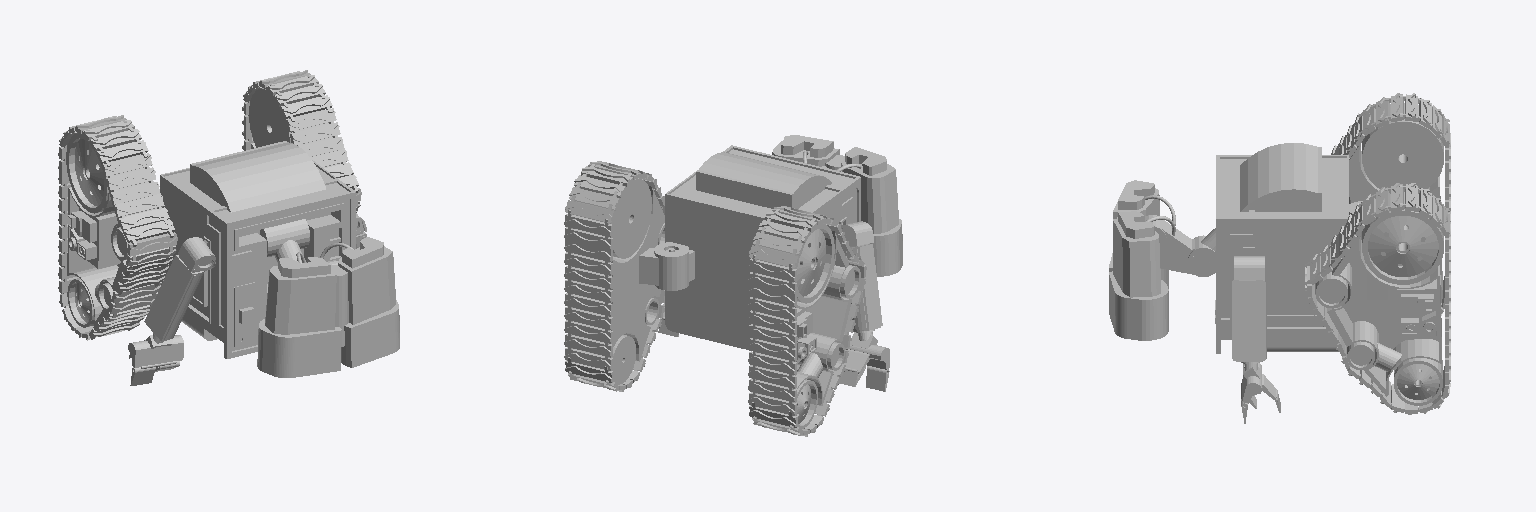
File: walle.obj
3 views of the same model, side by side, from view 1: azimuth 30°, elevation 25°; view 2: azimuth 150°, elevation 25°; view 3: azimuth 270°, elevation 25° (orthographic).
Visible parts, largest first — view 1: Object.1; view 2: Object.1; view 3: Object.1.
Boxes of the visible parts, box(x1,y1,x2,y2) form: Object.1: box(58, 70, 399, 385); Object.1: box(564, 135, 902, 436); Object.1: box(1109, 93, 1450, 423).
Bounding box in the file's own units: 67.63 × 57.75 × 82.47.